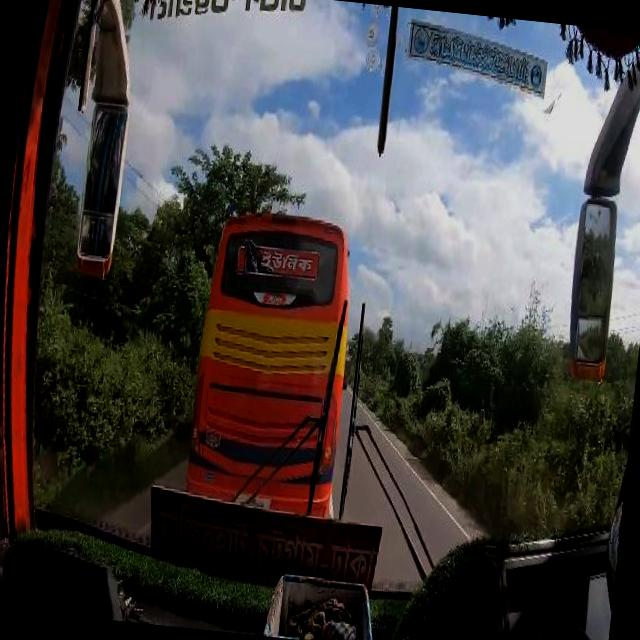bus: (184, 209, 357, 508)
